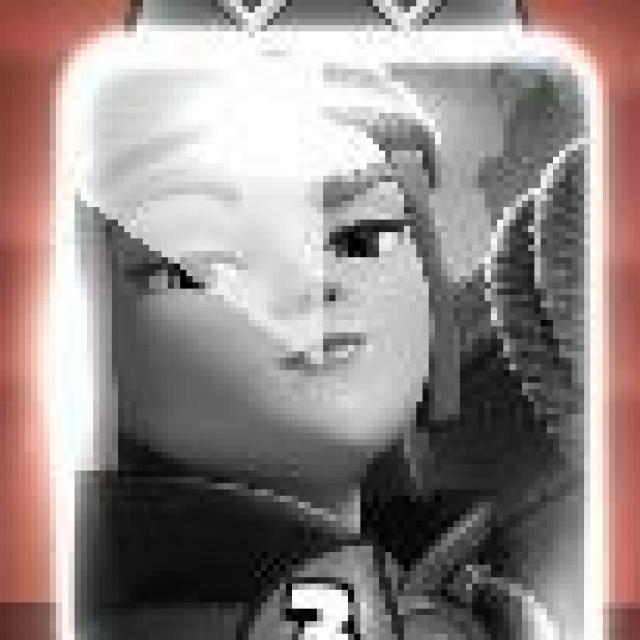Evolved_Firecracker: (47, 28, 607, 640)
